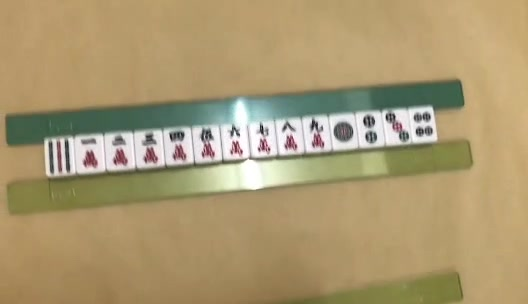1m: (80, 138, 100, 169)
1p: (334, 122, 352, 143)
2m: (109, 134, 128, 165)
2p: (363, 117, 377, 145)
3m: (142, 133, 159, 163)
3p: (385, 111, 410, 141)
4m: (169, 130, 189, 162)
4p: (415, 108, 434, 138)
5m: (199, 127, 216, 157)
6m: (226, 127, 245, 154)
7m: (255, 123, 273, 153)
8m: (280, 121, 299, 150)
9m: (310, 119, 327, 149)
9s: (47, 140, 70, 173)
